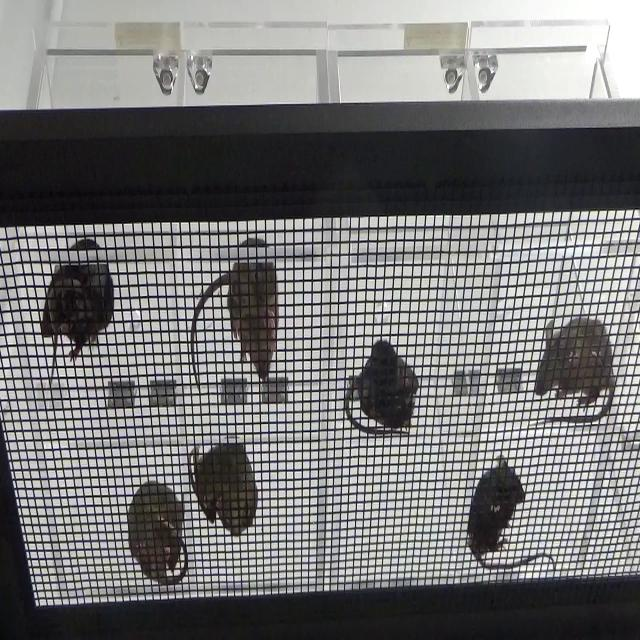lick tail: (22, 229, 127, 392), (185, 432, 264, 540)
scratch: (332, 328, 431, 451)
